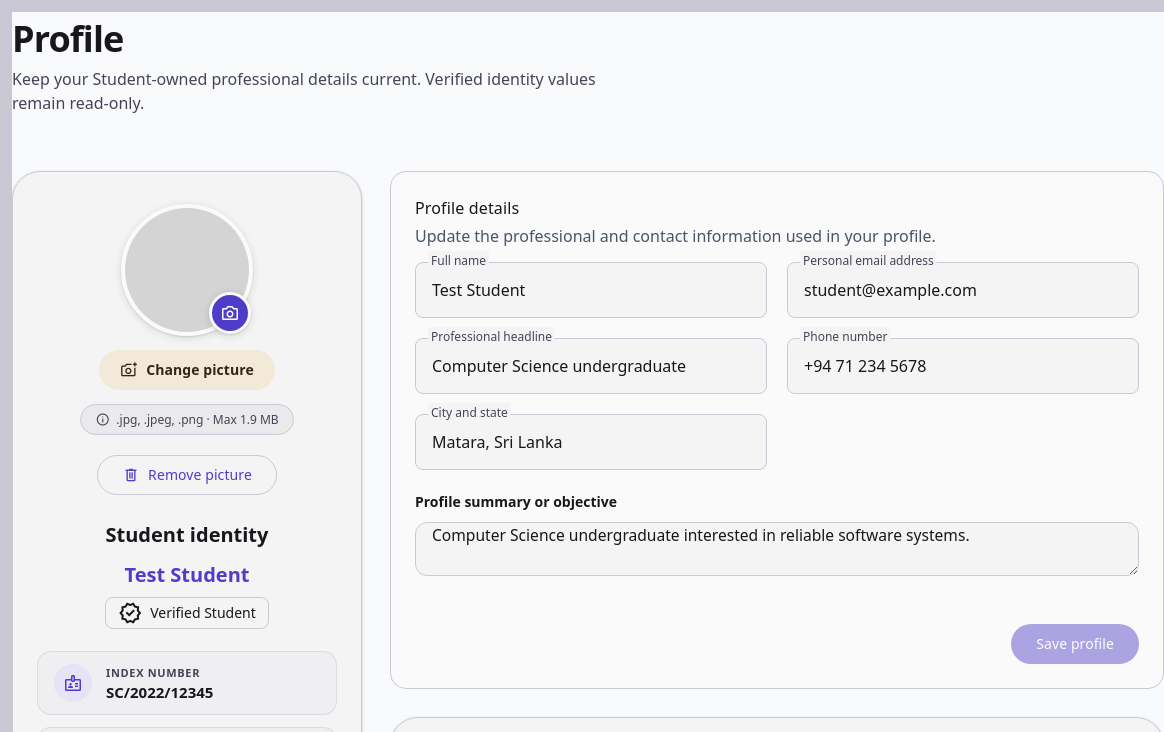
StudentProfilePage › offers an explicit reload after a concurrent update conflict
Step 1. Type "7" into the field labelled "Phone number" → (963, 366), box [804, 339, 1122, 393]
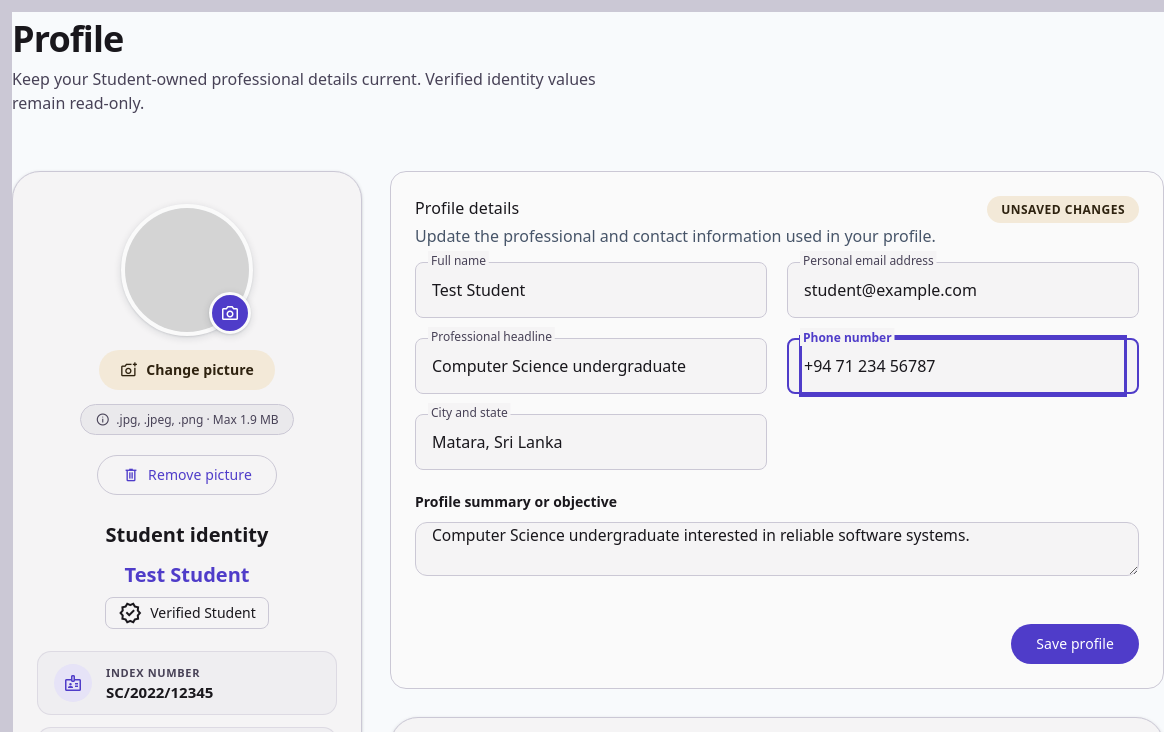
Step 2. Click the button "Save profile" → (1075, 644), box [1011, 624, 1139, 664]
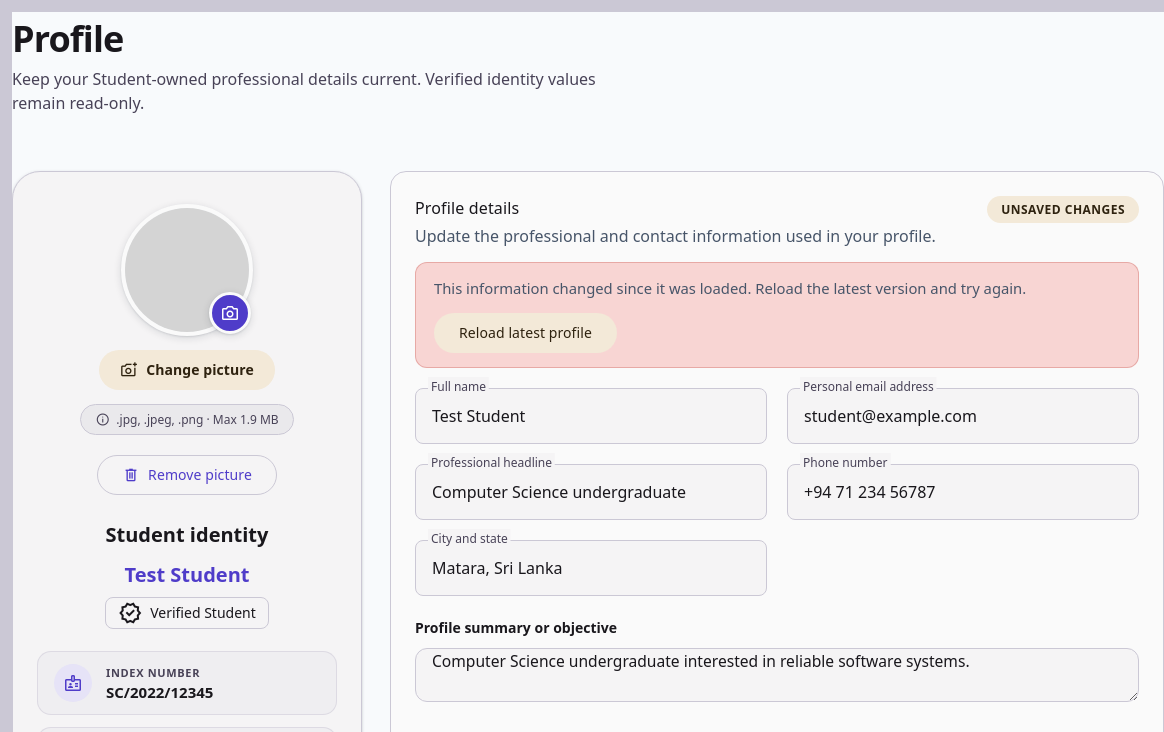
Step 3. Click the button "Reload latest profile" → (525, 333), box [434, 313, 617, 353]
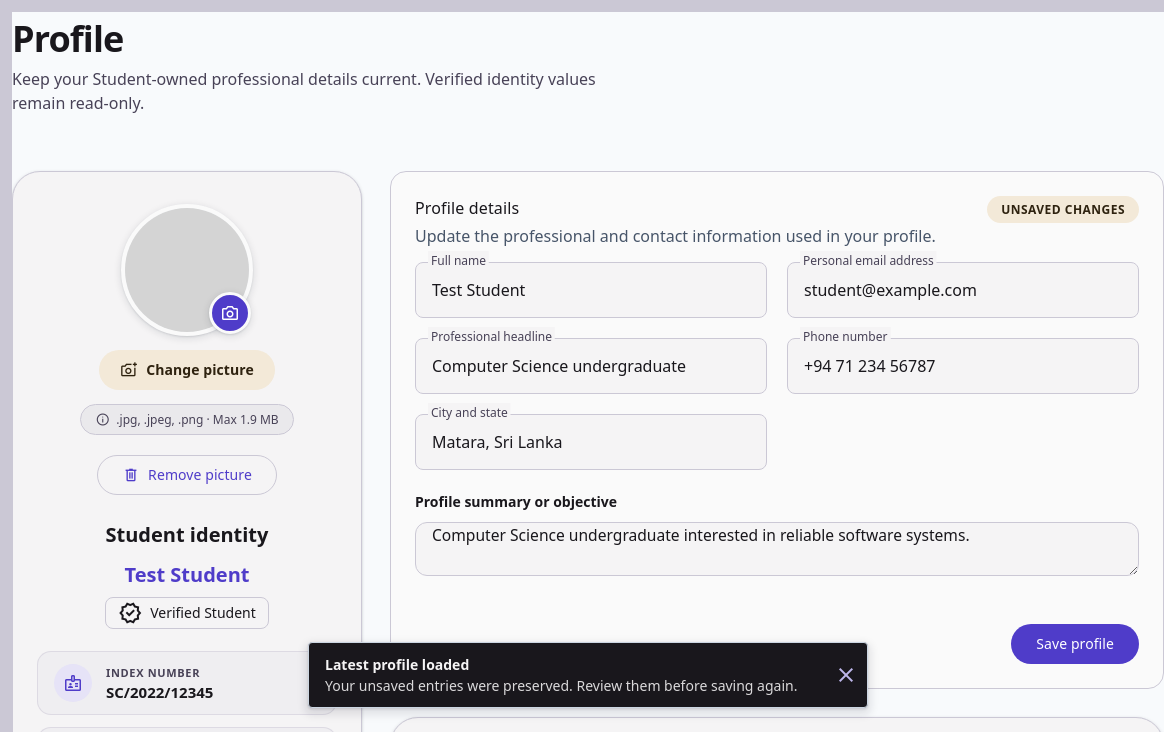
Check: the button "Reload latest profile" is gone
